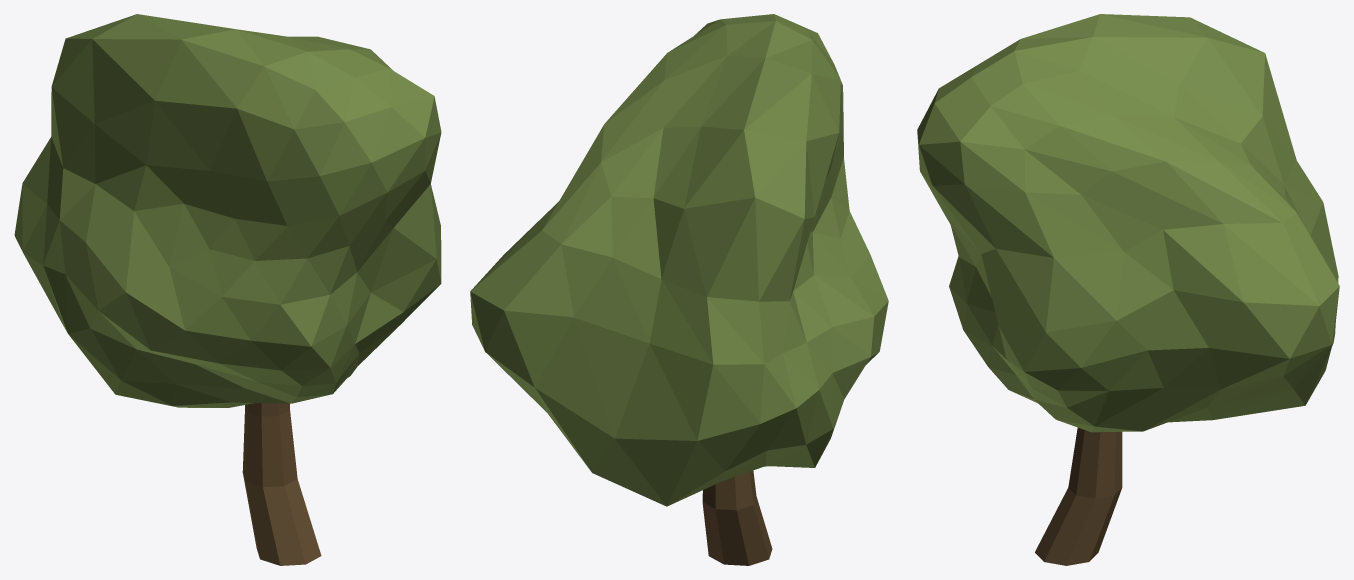
File: tree2.fbx
3 views of the same model, side by side, from view 1: azimuth 30°, elevation 25°; view 2: azimuth 150°, elevation 25°; view 3: azimuth 270°, elevation 25° (orthographic). The views are drawn at different scales.
Parts seen in each view (by area): view 1: tree2; view 2: tree2; view 3: tree2.
Boxes of the visible parts, <box> form: tree2: <box>14,14,441,565</box>; tree2: <box>470,14,888,565</box>; tree2: <box>917,14,1339,565</box>.
Size of the model in its own units: 71.27 by 112 by 85.97.
